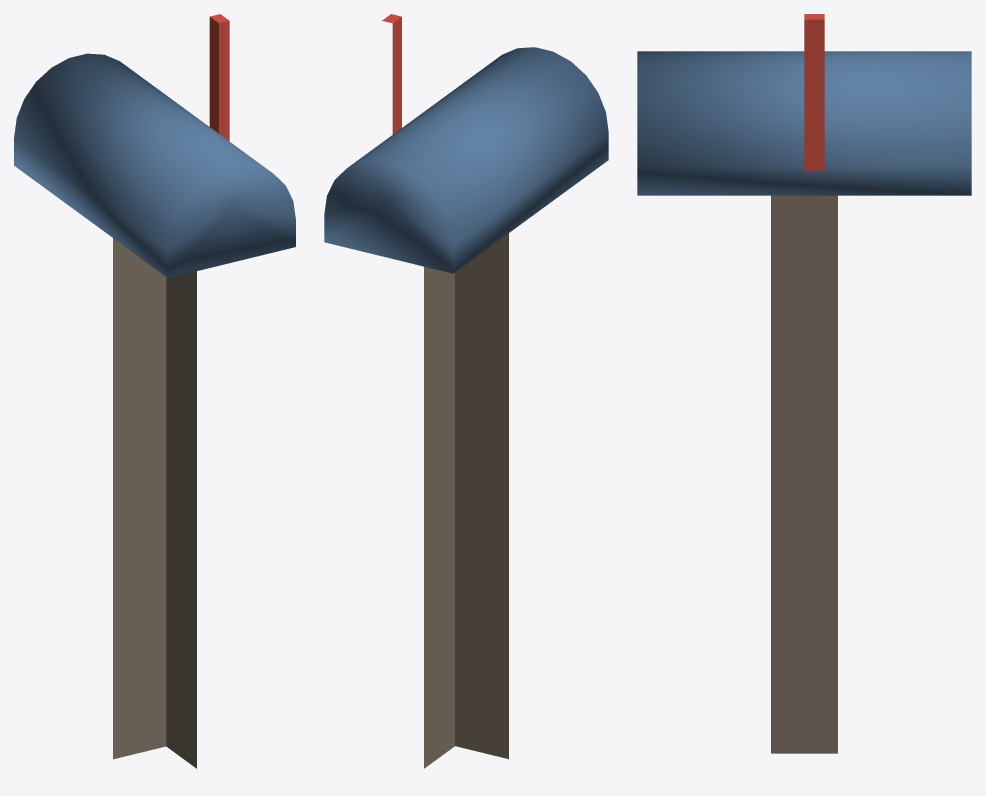
The model's file is mailbox.glb.
3 renders of one model, left to right at view 1: azimuth 30°, elevation 25°; view 2: azimuth 150°, elevation 25°; view 3: azimuth 270°, elevation 25°, orthographic. The views are drawn at different scales.
Visible parts, largest first — view 1: Mailbox; view 2: Mailbox; view 3: Mailbox.
Boxes of the visible parts, x1=… form: Mailbox: x1=14, y1=14, x2=295, y2=768; Mailbox: x1=324, y1=14, x2=608, y2=768; Mailbox: x1=637, y1=14, x2=971, y2=753.
Size of the model in its own units: 0.26 by 1.3 by 0.5.
